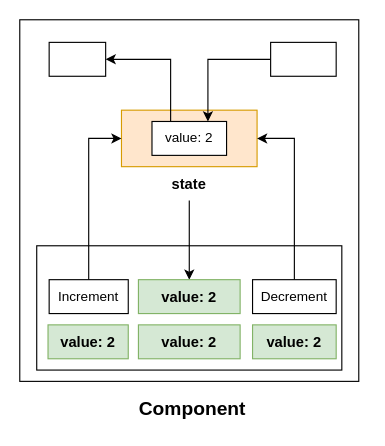
This 385x446 diagram has some shape labels left out. Here are the shapes that lost their labels. From the top down, the centre of each, then its label:
At [77,58]: "value".
At [303,58]: "setValue".
